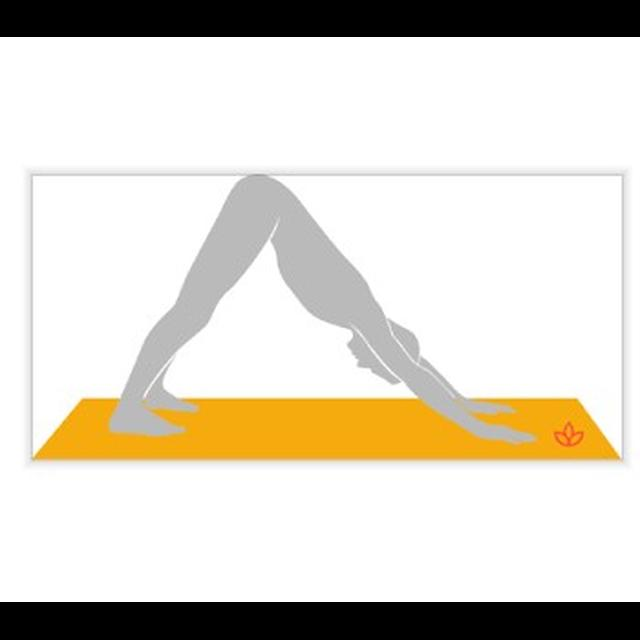Downward-Facing_Dog: (101, 176, 546, 450)
